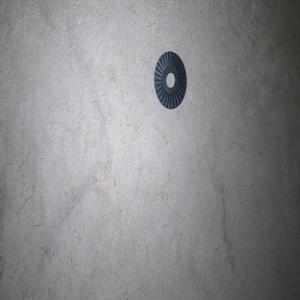Washer: (154, 51, 186, 109)
